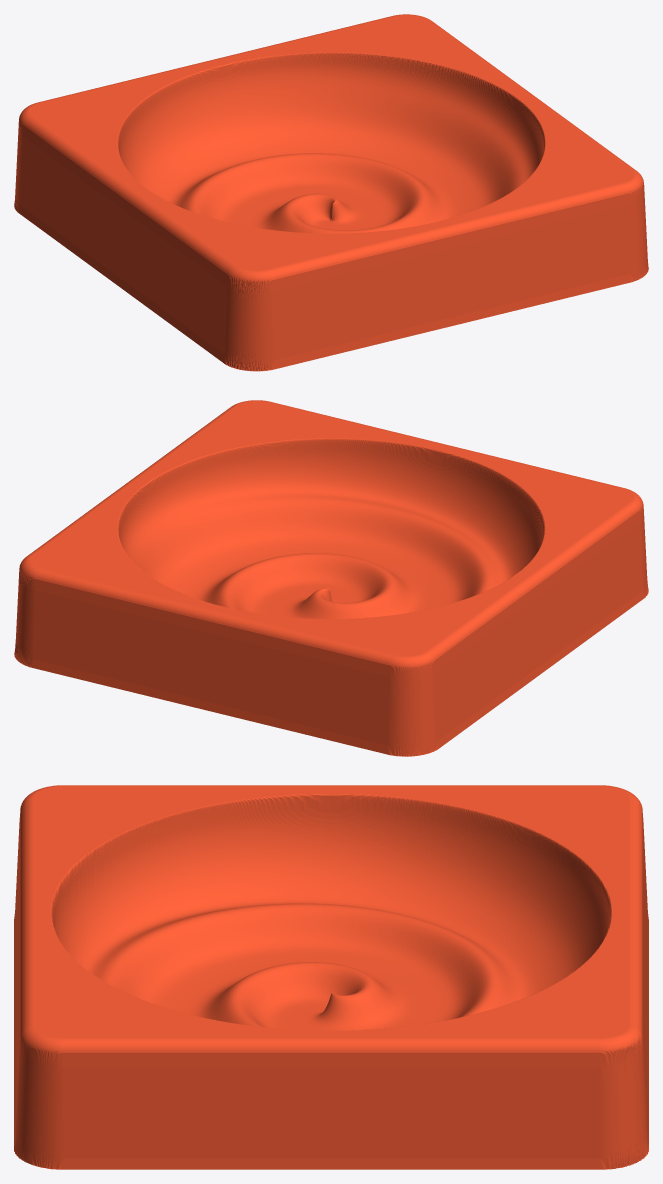
Rendered from mold.glb.
3 renders of one model, top to bottom at view 1: azimuth 30°, elevation 25°; view 2: azimuth 150°, elevation 25°; view 3: azimuth 270°, elevation 25°, orthographic. The views are drawn at different scales.
Parts seen in each view (by area): view 1: geometry_0; view 2: geometry_0; view 3: geometry_0.
Boxes of the visible parts, left/top/right/bottom form: geometry_0: left=14, top=14, right=648, bottom=371; geometry_0: left=14, top=400, right=648, bottom=756; geometry_0: left=14, top=785, right=648, bottom=1169.
Size of the model in its own units: 0.1158 by 0.0248 by 0.1158.
